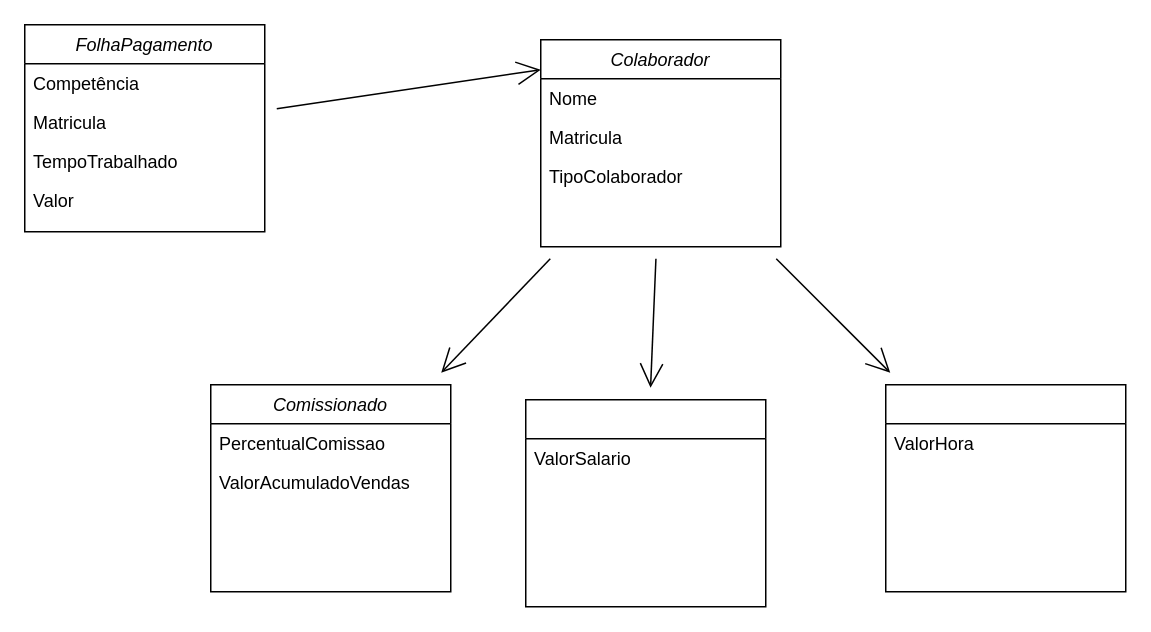
The diagram is 1151 pixels wide and 632 high, and some of its shapes have lost their labels. Here are the shapes that lost their labels. From the top down, the box of each, then its label:
(524, 398, 766, 607): Assalariado
(884, 383, 1126, 592): Horista
